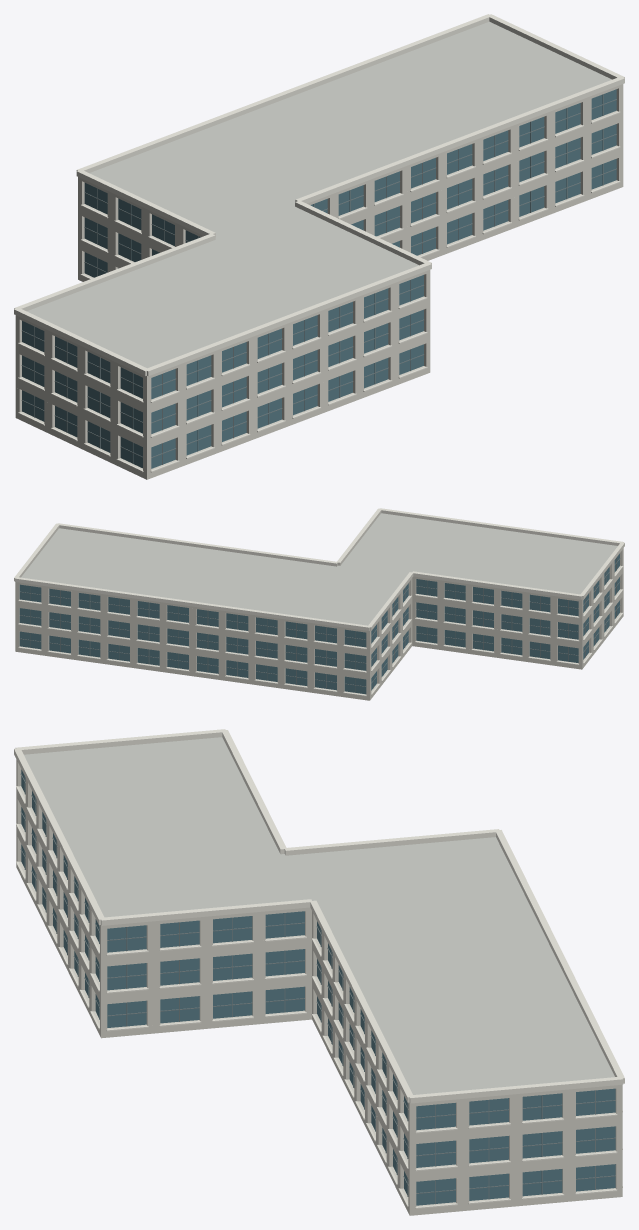
The picture shows the model from 3 angles, top to bottom: view 1: azimuth 30°, elevation 25°; view 2: azimuth 150°, elevation 25°; view 3: azimuth 270°, elevation 25°; orthographic projection. The views are drawn at different scales.
Parts seen in each view (by area): view 1: roof, wall, glass, trim, metal; view 2: roof, wall, glass, trim, metal; view 3: roof, wall, glass, trim, metal.
Boxes of the visible parts, x1,y1,x2,y2 form: roof: (27, 21, 611, 368); wall: (15, 84, 623, 479); glass: (22, 89, 616, 468); trim: (14, 14, 624, 472); metal: (21, 94, 616, 464); roof: (21, 513, 617, 625); wall: (15, 548, 623, 700); glass: (19, 553, 619, 694); trim: (14, 508, 624, 696); metal: (19, 558, 620, 692); roof: (24, 737, 614, 1094); wall: (16, 759, 622, 1215); glass: (21, 769, 615, 1205); trim: (14, 729, 624, 1208); metal: (20, 773, 615, 1204).
Size of the model in its own units: 65 by 9.74 by 45.47.
